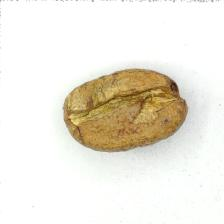NG: (68, 72, 173, 146)
